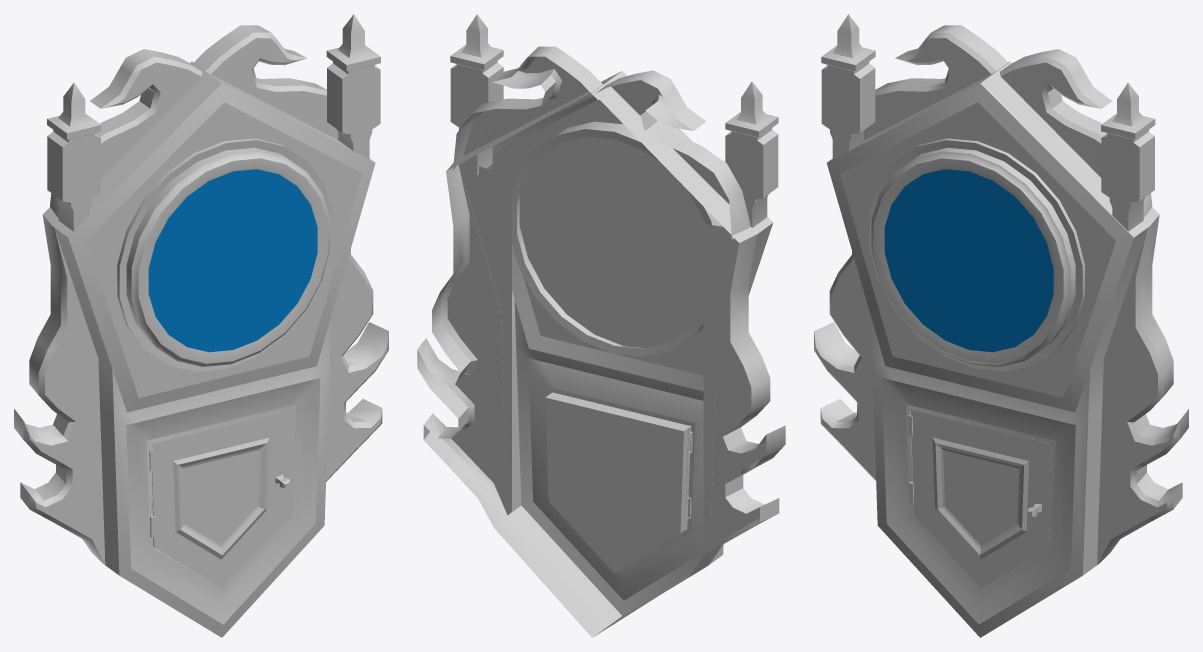
Rendered from Mad Wall Clock 02.fbx.
3 views of the same model, side by side, from view 1: azimuth 30°, elevation 25°; view 2: azimuth 150°, elevation 25°; view 3: azimuth 330°, elevation 25° (orthographic).
Visible parts, largest first — view 1: Plane; view 2: Plane; view 3: Plane.
Boxes of the visible parts, x1=… form: Plane: x1=14, y1=14, x2=388, y2=637; Plane: x1=417, y1=14, x2=785, y2=637; Plane: x1=814, y1=14, x2=1188, y2=637.
Bounding box in the file's own units: 57.19 × 87.29 × 11.44.
